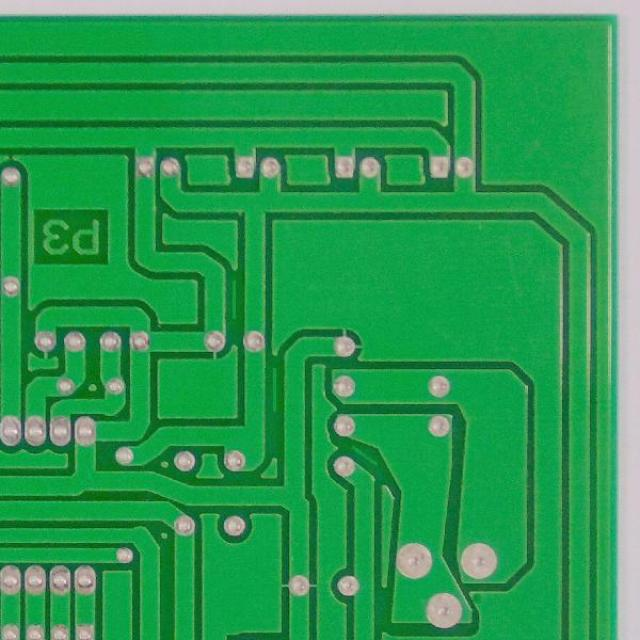Spurious_Cooper: (349, 439, 383, 472), (266, 364, 280, 416), (227, 276, 240, 321)
